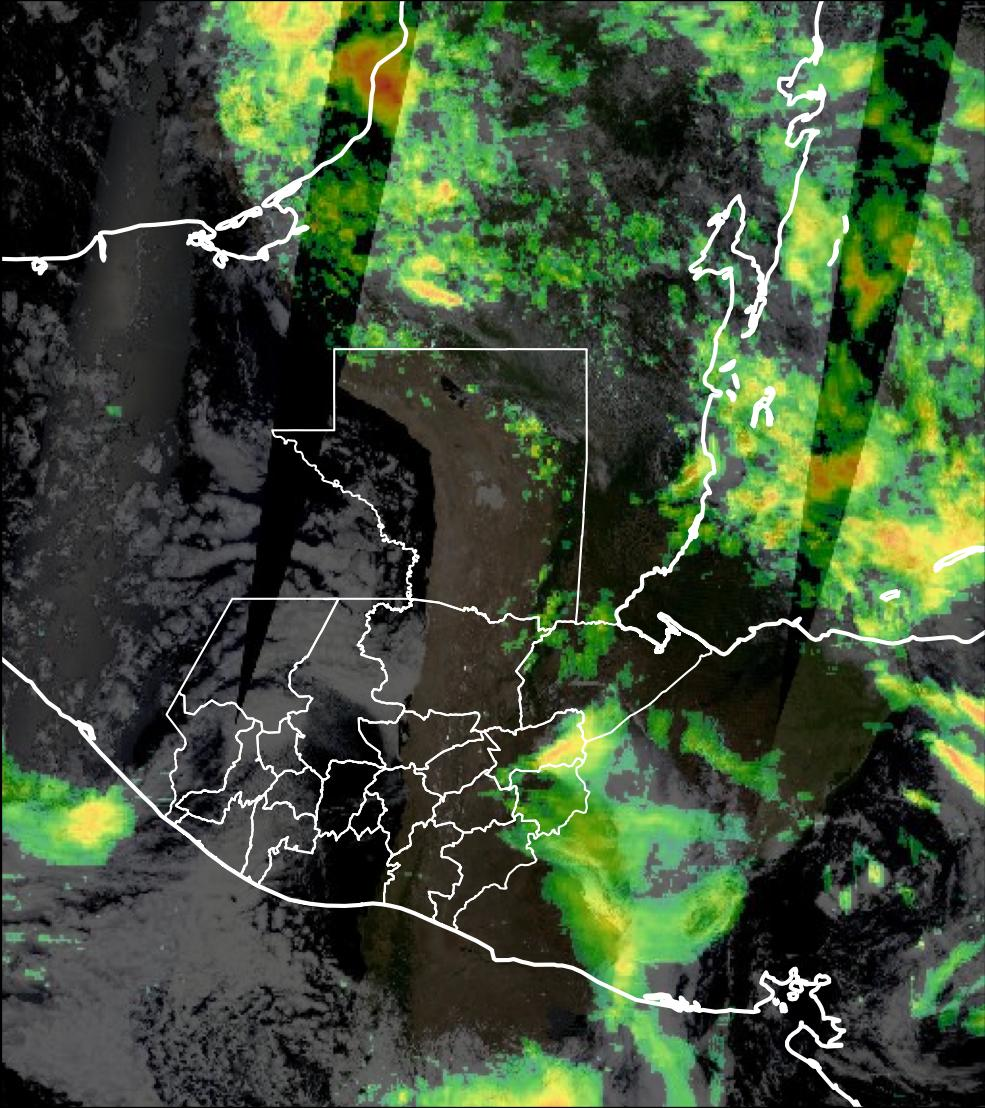precipitacion: (332, 37, 413, 131), (775, 446, 897, 496), (863, 519, 919, 586)
